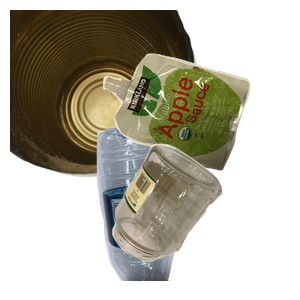glass: (110, 141, 300, 300)
metal: (10, 10, 200, 180)
plastic: (94, 120, 267, 300)
trash: (100, 51, 300, 214)
